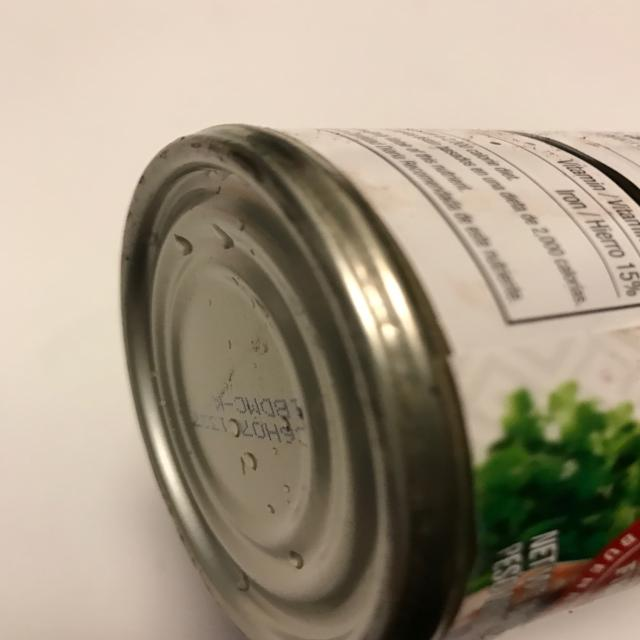metal: (118, 121, 640, 640)
